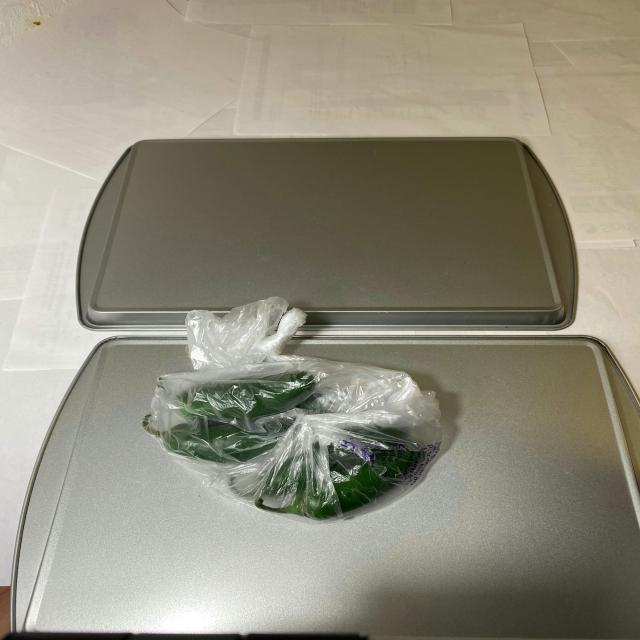chilli: (136, 354, 446, 525)
